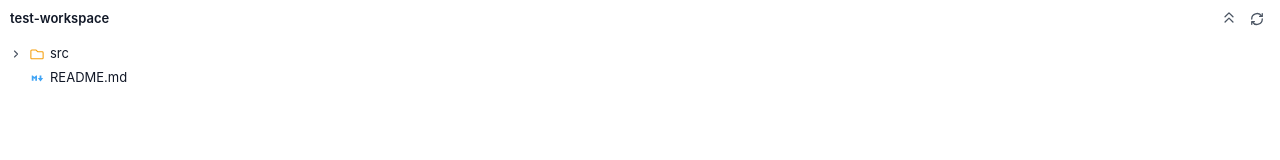
Test case: FileTree 展开/折叠与持久化 › 点击目录切换展开状态并持久化
Expected: the text "src" is shown, 50,45 -> 69,61
Note:  展开:加载子项
Click the text "src" at [40, 53], box 10,45 -> 69,61
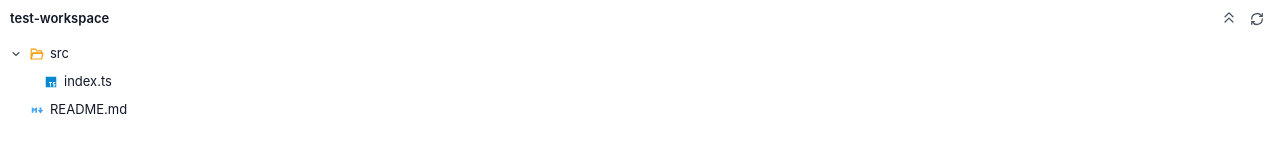
Expected: the text "index.ts" is shown, 64,73 -> 112,89
Note:  折叠:卸载子项
Click the text "src" at [40, 53], box 10,45 -> 69,61
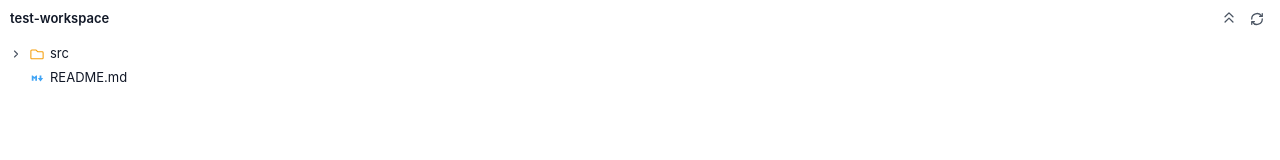
Expected: the text "index.ts" is gone
